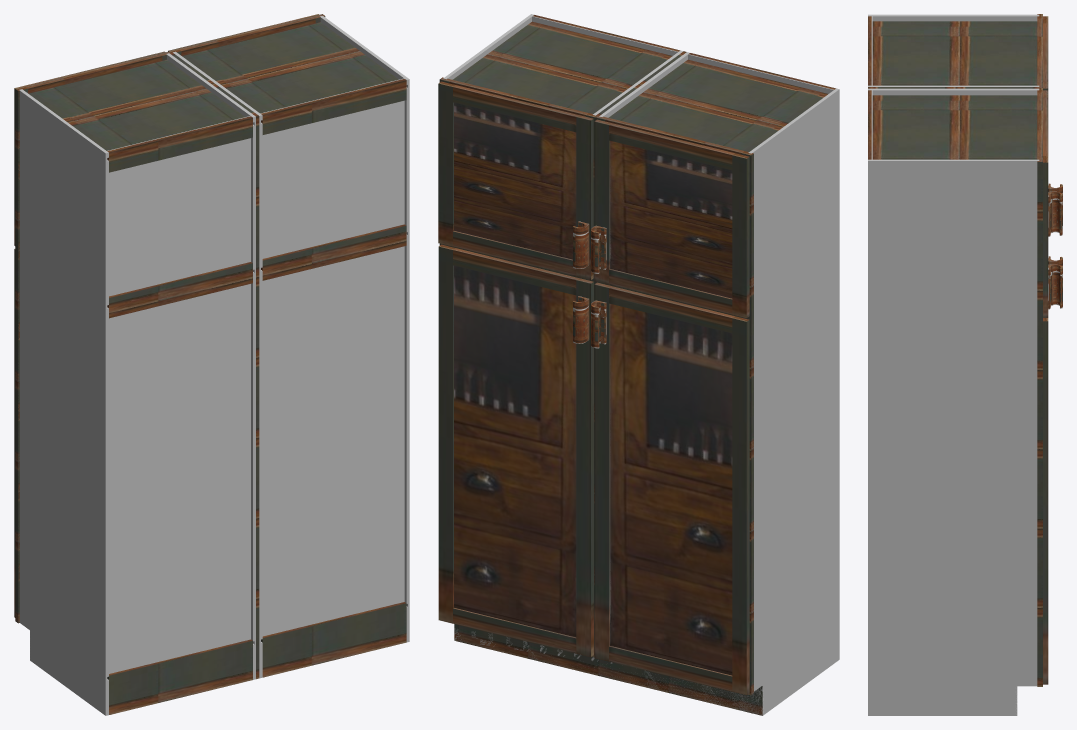
The picture shows the model from 3 angles, left to right: view 1: azimuth 30°, elevation 25°; view 2: azimuth 150°, elevation 25°; view 3: azimuth 270°, elevation 25°; orthographic projection. The views are drawn at different scales.
Parts seen in each view (by area): view 1: mesh132_mesh132-geometry, mesh119_mesh119-geometry, mesh134_mesh134-geometry, mesh171_mesh171-geometry, mesh123_mesh123-geometry, mesh175_mesh175-geometry, mesh172_mesh172-geometry, mesh169_mesh169-geometry, mesh188_mesh188-geometry, mesh194_mesh194-geometry, mesh156_mesh156-geometry, mesh121_mesh121-geometry (+6 smaller); view 2: mesh45_mesh45-geometry, mesh103_mesh103-geometry, mesh119_mesh119-geometry, mesh134_mesh134-geometry, mesh3_mesh3-geometry, mesh61_mesh61-geometry, mesh123_mesh123-geometry, mesh41_mesh41-geometry, mesh101_mesh101-geometry, mesh99_mesh99-geometry, mesh194_mesh194-geometry, mesh43_mesh43-geometry (+24 smaller); view 3: mesh169_mesh169-geometry, mesh158_mesh158-geometry, mesh134_mesh134-geometry, mesh190_mesh190-geometry, mesh167_mesh167-geometry, mesh121_mesh121-geometry, mesh99_mesh99-geometry, mesh141_mesh141-geometry, mesh64_mesh64-geometry, mesh156_mesh156-geometry, mesh59_mesh59-geometry, mesh88_mesh88-geometry (+5 smaller).
Part boxes in pixels (x1,y1,x2,y2): mesh132_mesh132-geometry: (105, 78, 405, 673); mesh119_mesh119-geometry: (20, 225, 262, 715); mesh134_mesh134-geometry: (34, 25, 387, 149); mesh171_mesh171-geometry: (107, 602, 406, 714); mesh123_mesh123-geometry: (20, 104, 262, 287); mesh175_mesh175-geometry: (107, 79, 406, 172); mesh172_mesh172-geometry: (107, 224, 406, 318); mesh169_mesh169-geometry: (251, 213, 409, 679); mesh188_mesh188-geometry: (15, 49, 181, 623); mesh194_mesh194-geometry: (30, 53, 259, 679); mesh156_mesh156-geometry: (25, 16, 315, 93); mesh121_mesh121-geometry: (19, 51, 262, 166); mesh45_mesh45-geometry: (609, 304, 732, 675); mesh103_mesh103-geometry: (454, 265, 576, 637); mesh119_mesh119-geometry: (754, 225, 839, 714); mesh134_mesh134-geometry: (464, 24, 822, 150); mesh3_mesh3-geometry: (609, 140, 732, 298); mesh61_mesh61-geometry: (454, 102, 576, 259); mesh123_mesh123-geometry: (754, 103, 839, 287); mesh41_mesh41-geometry: (732, 316, 749, 695); mesh101_mesh101-geometry: (576, 278, 593, 657); mesh99_mesh99-geometry: (438, 244, 455, 623); mesh194_mesh194-geometry: (454, 51, 763, 715); mesh43_mesh43-geometry: (594, 282, 611, 661); mesh169_mesh169-geometry: (868, 293, 1037, 715); mesh158_mesh158-geometry: (868, 174, 1037, 293); mesh134_mesh134-geometry: (872, 26, 1037, 158); mesh190_mesh190-geometry: (1037, 83, 1042, 686); mesh167_mesh167-geometry: (868, 85, 1039, 174); mesh121_mesh121-geometry: (868, 14, 1039, 95); mesh99_mesh99-geometry: (1043, 318, 1048, 684); mesh141_mesh141-geometry: (872, 21, 1037, 100); mesh64_mesh64-geometry: (1043, 156, 1048, 317); mesh156_mesh156-geometry: (1037, 18, 1042, 157); mesh59_mesh59-geometry: (1048, 191, 1062, 236); mesh88_mesh88-geometry: (1048, 264, 1062, 309).
Bounding box in the file's own units: 0.4782 × 0.8368 × 0.2665.
